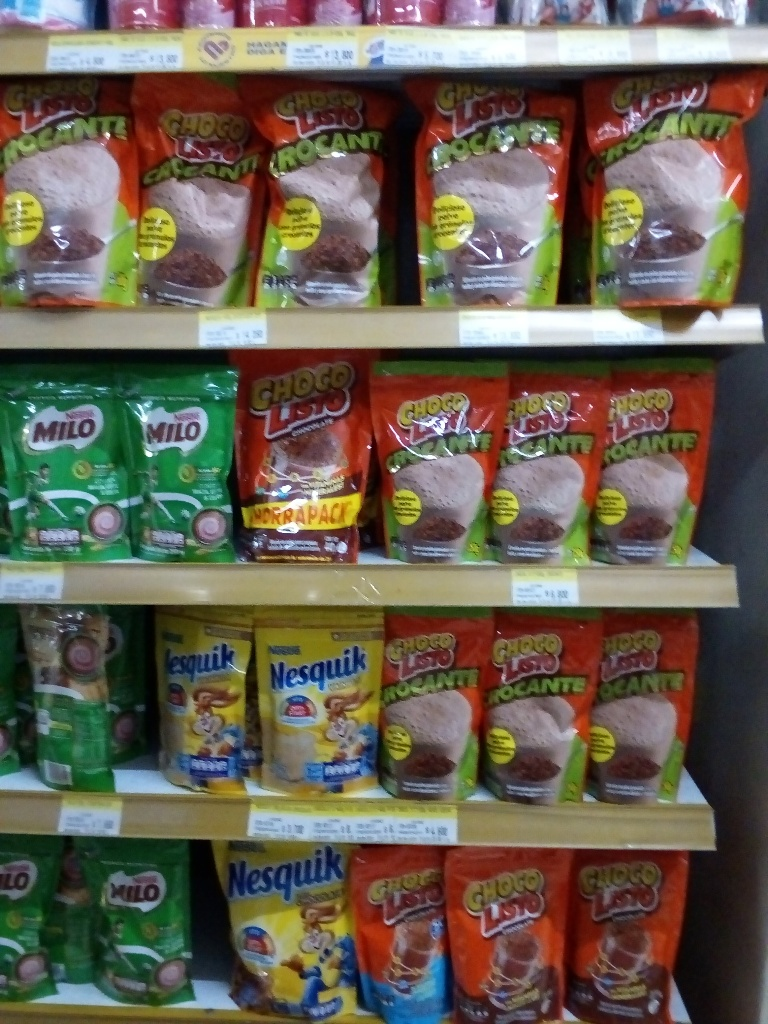COL0170102DYP25000: (371, 361, 503, 566)
COL0170102DYP50000: (1, 78, 149, 311)
COL0170103DYP20000: (448, 847, 566, 1021)
COL0170103DYP40000: (227, 346, 376, 563)
COL0170104DYP20000: (349, 844, 463, 1022)
COL0170203DYP25000: (2, 365, 132, 558)
COL0170306DYP20000: (152, 602, 255, 798)
